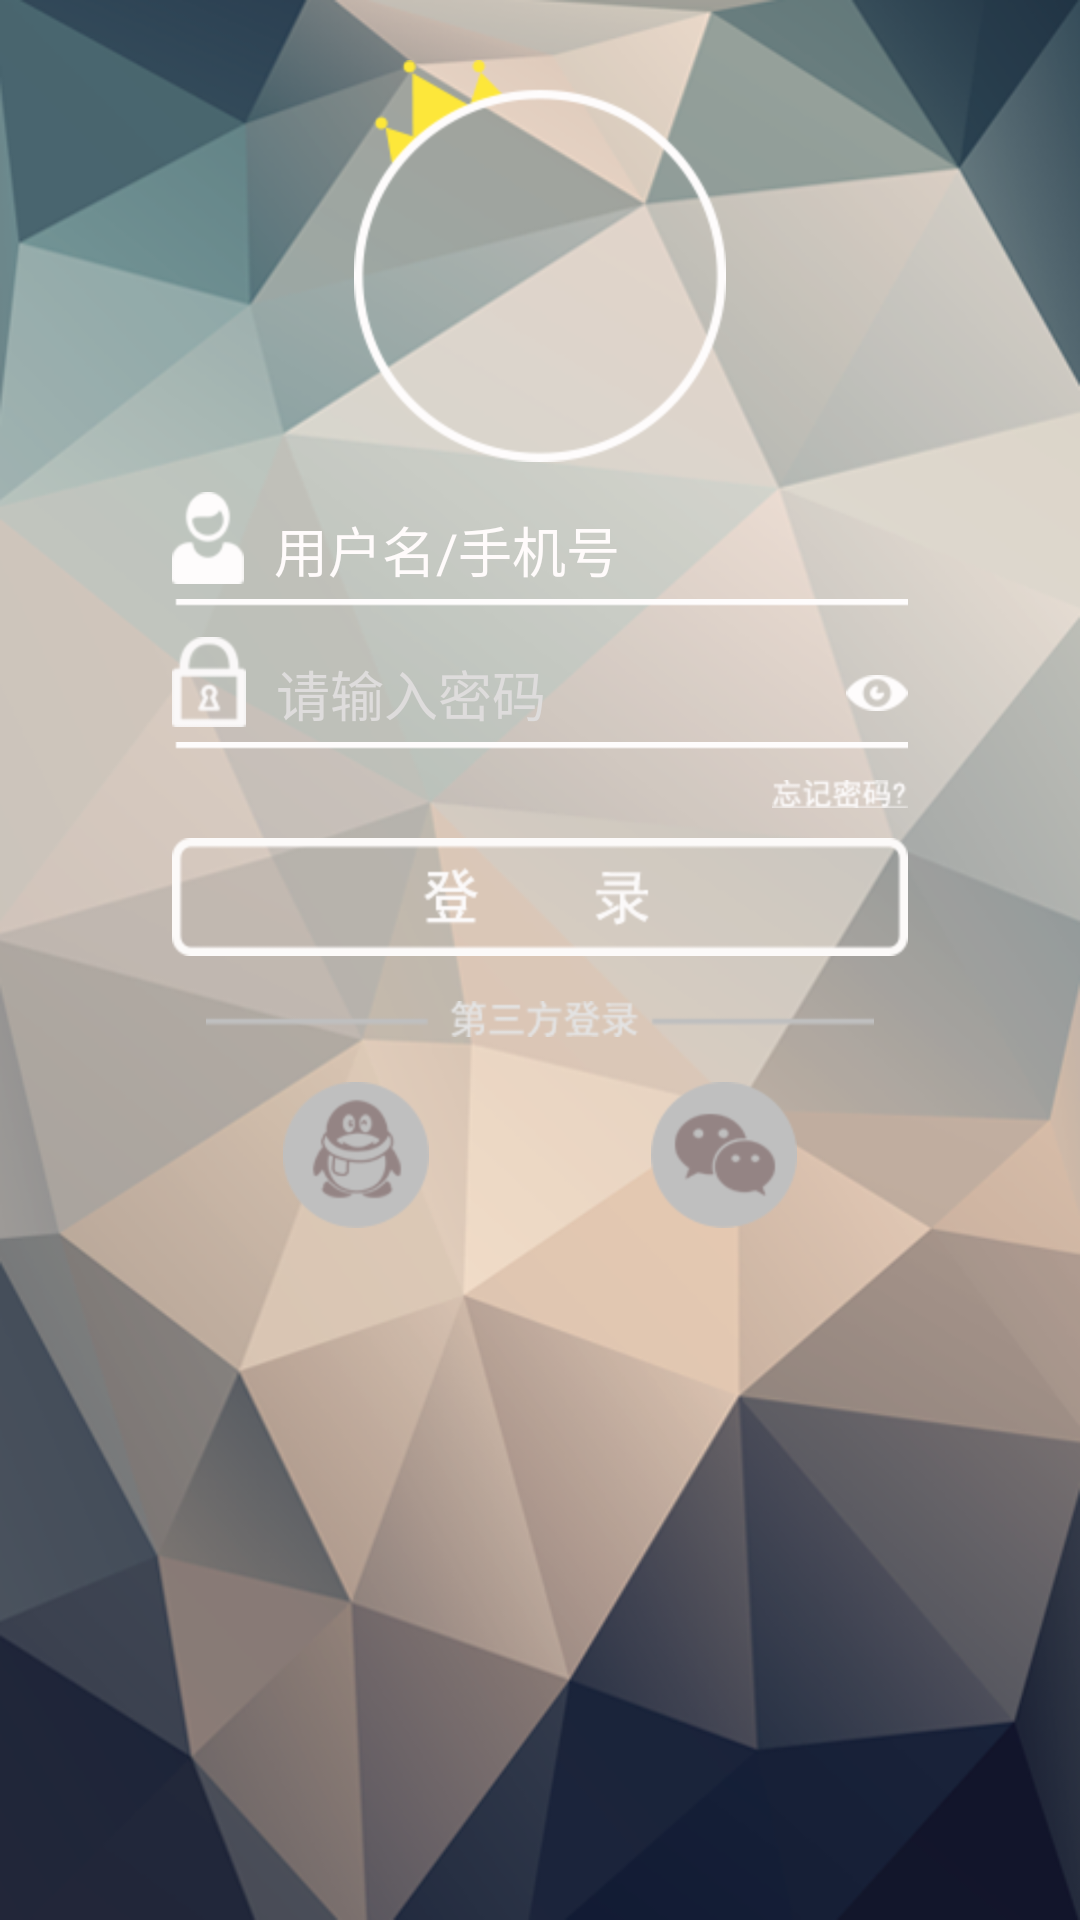

Screen size 1080x1920. Icon name, then its box in pixels as [x1, y1, x2, y2]:
password: [172, 637, 246, 727]
password visible: [846, 675, 908, 711]
user: [172, 492, 244, 584]
